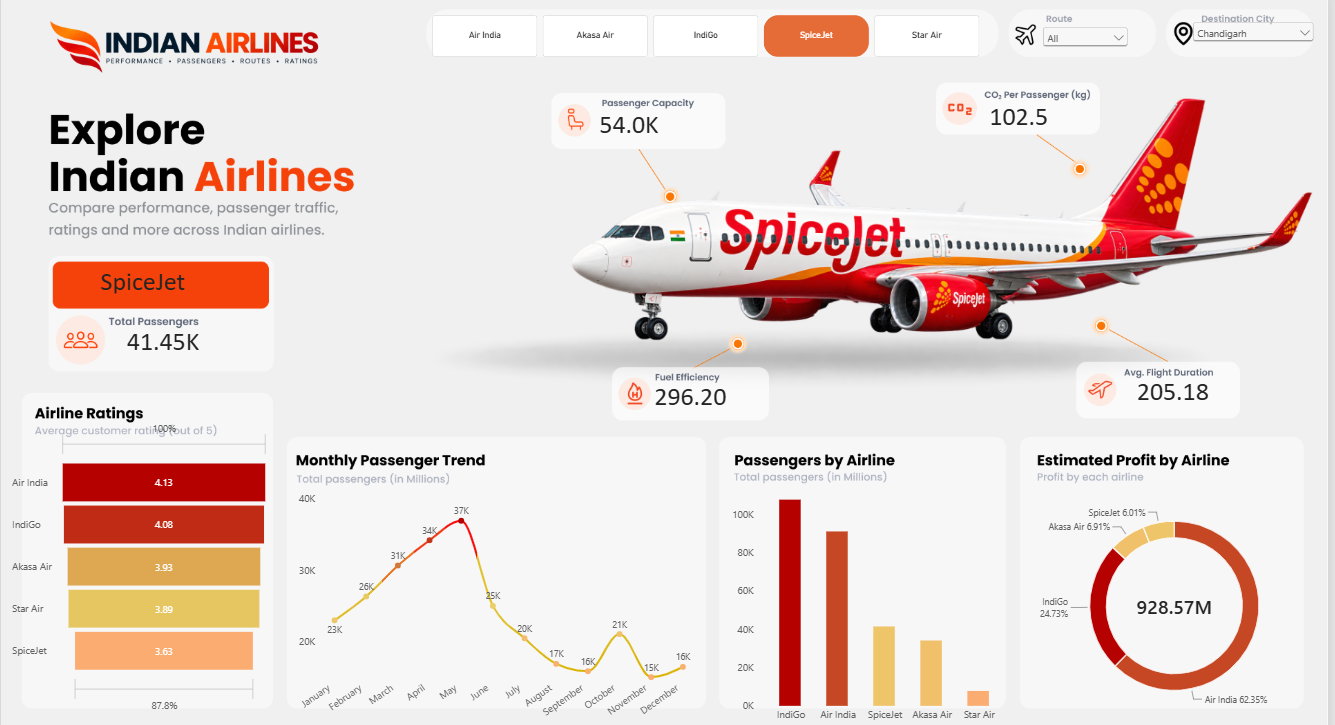

This screenshot's page, from the dashboard's own definition file:
{"tool":"powerbi","page":{"name":"Page 1","canvas":[1920,1080],"ordinal":0},"visuals":[{"type":"clusteredBarChart","fields":{"Category":["Flight_Data.Airline"],"Y":["Avg(Flight_Data.Customer_Rating)"]},"box":[0,598,446,462],"z":0},{"type":"clusteredColumnChart","fields":{"Category":["Flight_Data.Airline"],"Y":["Sum(Flight_Data.Passengers)"]},"box":[1042,702,434,372],"z":1000},{"type":"lineChart","fields":{"Category":["Flight_Data.Date.Variation.Date Hierarchy.Year","Flight_Data.Date.Variation.Date Hierarchy.Quarter","Flight_Data.Date.Variation.Date Hierarchy.Month"],"Y":["Sum(Flight_Data.Passengers)"]},"box":[404,706,618,374],"z":2000},{"type":"donutChart","fields":{"Category":["Flight_Data.Airline"],"Y":["Sum(Flight_Data.Estimated_Profit_INR)"]},"box":[1476,692,444,390],"z":3000},{"type":"advancedSlicerVisual","fields":{"Values":["Aircraft_Images.Airline"]},"box":[624,30,796,60],"z":4000},{"type":"image","box":[797.6,90.2,1095.1,529.3],"z":5000},{"type":"cardVisual","fields":{"Data":["Min(Aircraft_Images.Airline)"]},"box":[112,386,254,64],"z":6000},{"type":"cardVisual","fields":{"Data":["Measure Table.Total Passenger"]},"box":[150,468,180,72],"z":7000},{"type":"cardVisual","fields":{"Data":["Measure Table.Seat Capacity"]},"box":[834,158,254,64],"z":8000},{"type":"cardVisual","fields":{"Data":["Measure Table.CO2 per Passenger"]},"box":[1398,134,254,88],"z":9000},{"type":"cardVisual","fields":{"Data":["Measure Table.fule Efficiency"]},"box":[914,548,254,72],"z":10000},{"type":"cardVisual","fields":{"Data":["Measure Table.Avg flight duration"]},"box":[1612,534,188,86],"z":11000}]}

Visuals, with their boxes on the page's 1920x1080 design canvas (x1, y1, x2, y2). These are canvas units, not pixel positions in the 1335x725 screenshot, which may show the page scaled, cropped or inside an application window:
clusteredBarChart - Flight_Data.Airline x Avg(Flight_Data.Customer_Rating): 0, 598, 446, 1060
clusteredColumnChart - Flight_Data.Airline x Sum(Flight_Data.Passengers): 1042, 702, 1476, 1074
lineChart - Flight_Data.Date.Variation.Date Hierarchy.Year x Flight_Data.Date.Variation.Date Hierarchy.Quarter: 404, 706, 1022, 1080
donutChart - Flight_Data.Airline x Sum(Flight_Data.Estimated_Profit_INR): 1476, 692, 1920, 1082
advancedSlicerVisual - Aircraft_Images.Airline: 624, 30, 1420, 90
image: 798, 90, 1893, 620
cardVisual - Min(Aircraft_Images.Airline): 112, 386, 366, 450
cardVisual - Measure Table.Total Passenger: 150, 468, 330, 540
cardVisual - Measure Table.Seat Capacity: 834, 158, 1088, 222
cardVisual - Measure Table.CO2 per Passenger: 1398, 134, 1652, 222
cardVisual - Measure Table.fule Efficiency: 914, 548, 1168, 620
cardVisual - Measure Table.Avg flight duration: 1612, 534, 1800, 620
